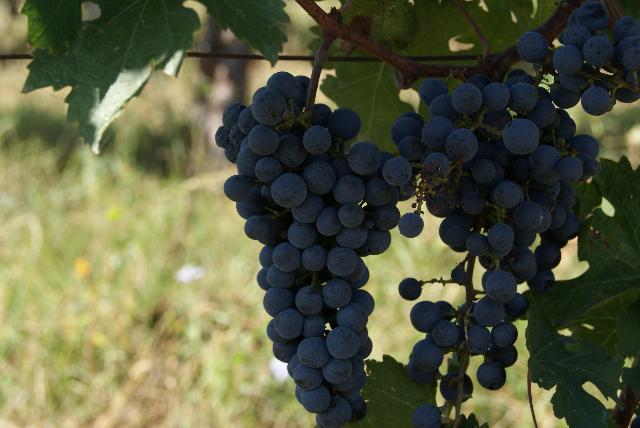grapes: (215, 71, 398, 428), (392, 81, 598, 389), (550, 0, 640, 111)
